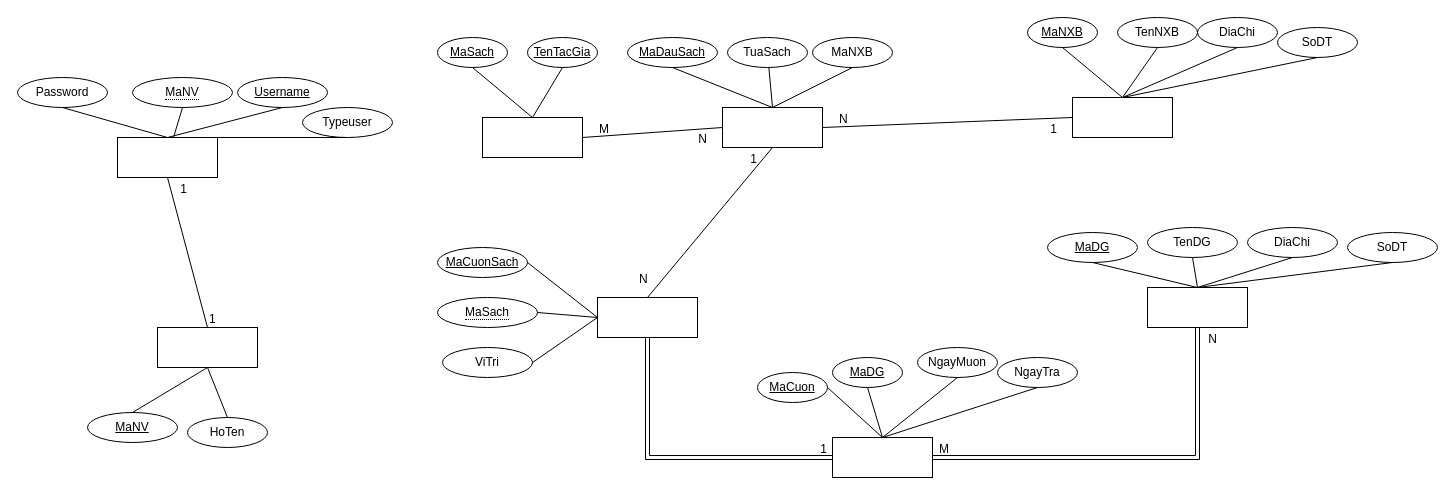
Image size: 1455x495. Some labels were removed from this diagram. The shapes that lost their labels are listed below. From the top down, each one's centre as x and y in pixels, then its label:
(x=532, y=137): TacGia
(x=772, y=127): DauSach
(x=1122, y=117): NXB
(x=167, y=157): Account
(x=647, y=317): CuonSach
(x=1197, y=307): DocGia
(x=207, y=347): NhanVien
(x=882, y=457): Muon
